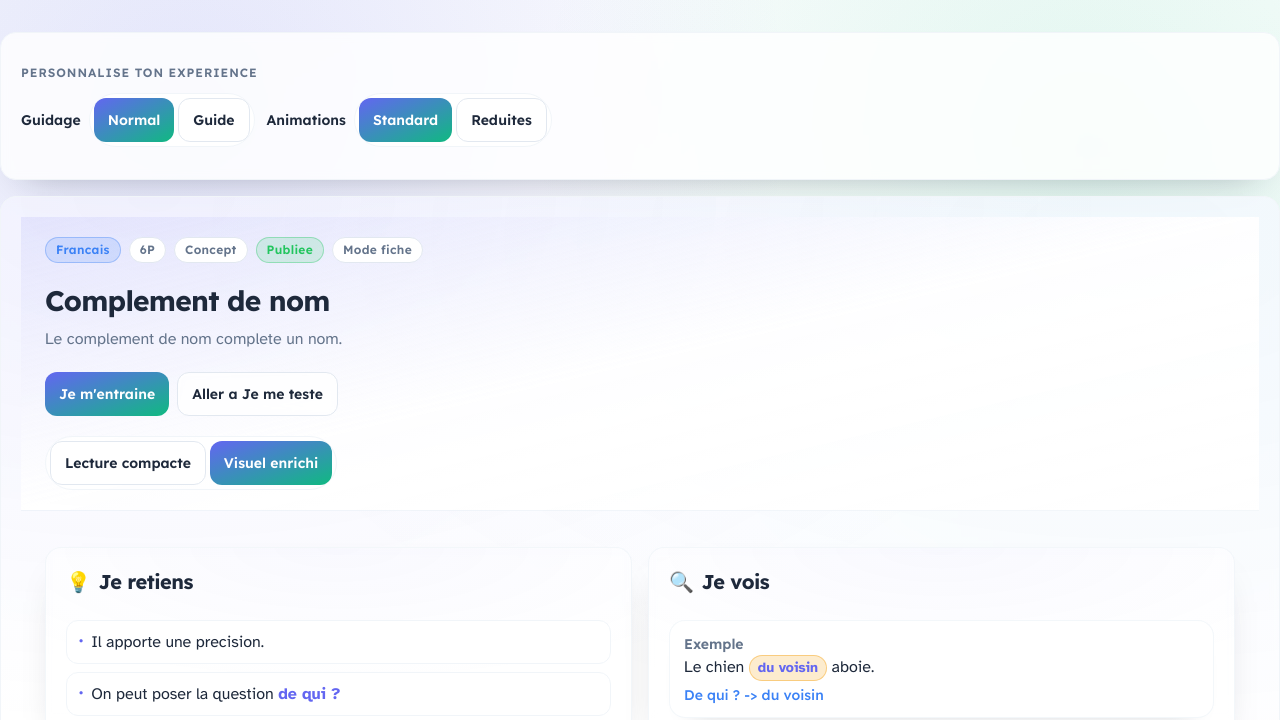
RevisionCardView › shows only training-focused sections in practice mode
Click the button with test id "revision-sheet-to-practice".
click(107, 394)  # box [45,372,169,416]
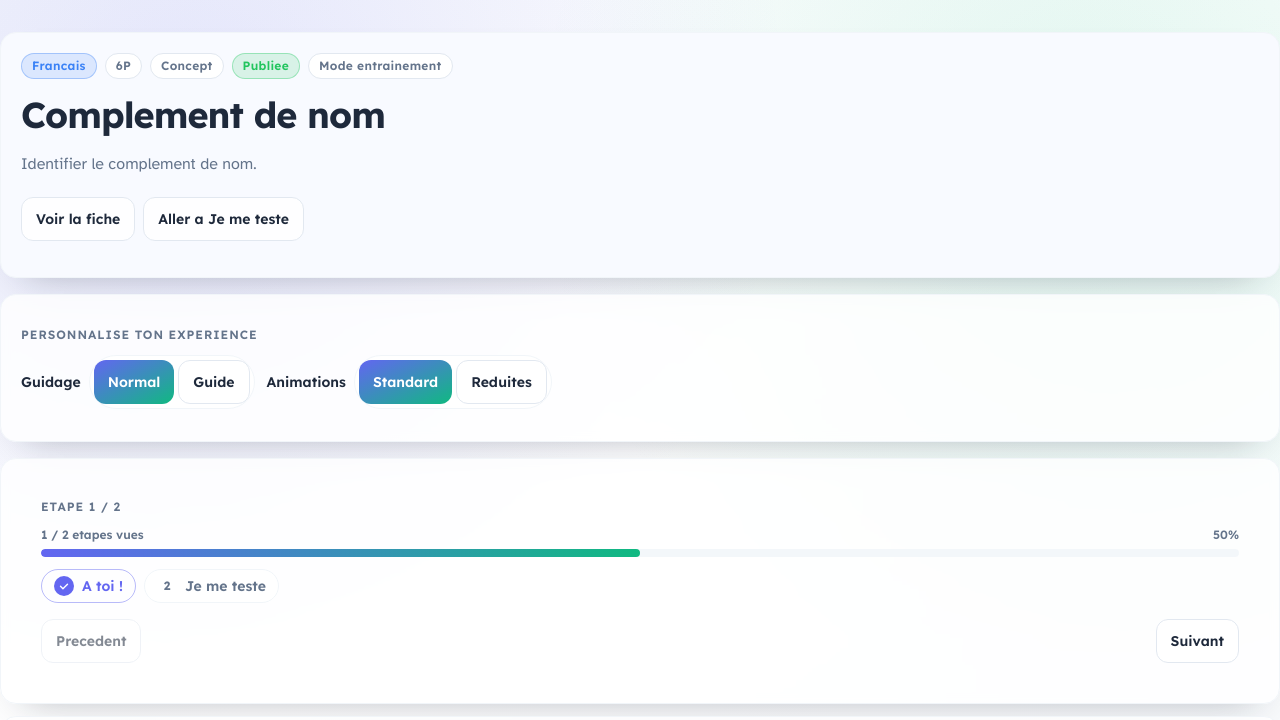
Expected: the tab with aria-label "Etape 1: A toi !" is shown, [41,569,136,603]
Expected: the tab with aria-label "Etape 2: Je me teste" is shown, [144,569,279,603]
Expected: the text "Je retiens" is gone
